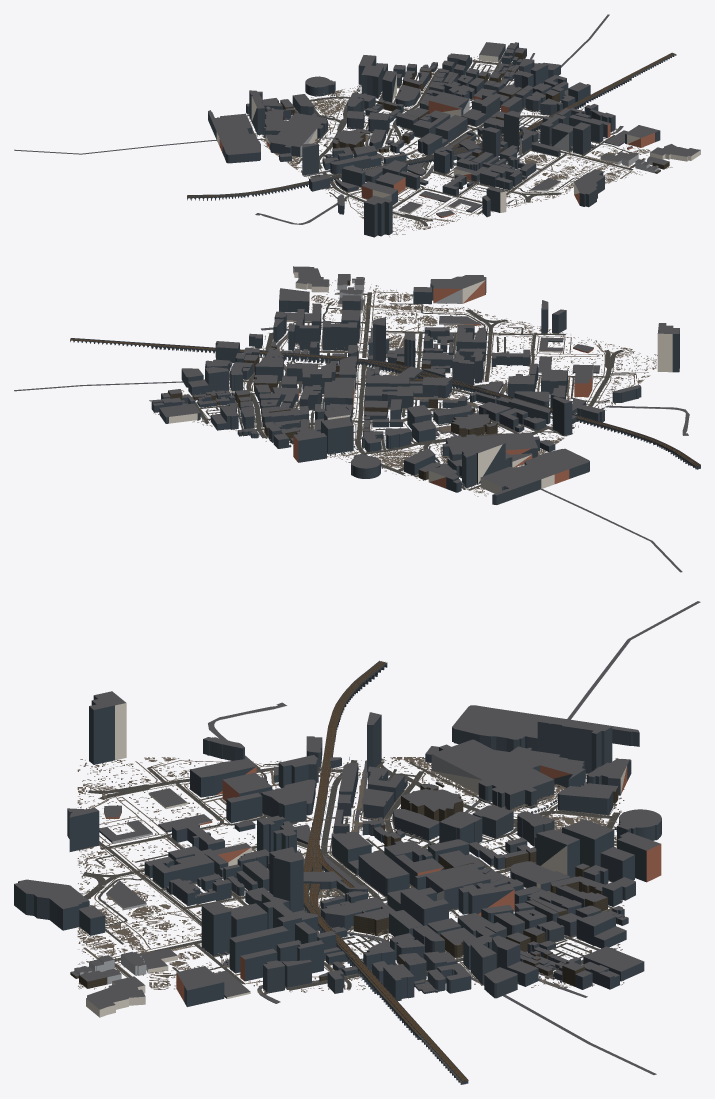
The model's file is context_typed_opt.glb.
3 views of the same model, one above another, from view 1: azimuth 30°, elevation 25°; view 2: azimuth 150°, elevation 25°; view 3: azimuth 270°, elevation 25° (orthographic). The views are drawn at different scales.
Visible parts, largest first — view 1: bldg_23112318, road_27605679, road_783670, bldg_31176345, viaduct_31178960_deck; view 2: bldg_23112318, road_27605679, road_783670, bldg_31176345, viaduct_31178960_deck; view 3: bldg_23112318, road_27605679, road_783670, viaduct_31178960_deck, bldg_31176345.
Boxes of the visible parts, left/top/right/bottom form: bldg_23112318: left=14, top=14, right=700, bottom=237; road_27605679: left=247, top=51, right=672, bottom=236; road_783670: left=247, top=50, right=645, bottom=226; bldg_31176345: left=280, top=49, right=669, bottom=173; viaduct_31178960_deck: left=187, top=53, right=675, bottom=197; bldg_23112318: left=14, top=266, right=700, bottom=572; road_27605679: left=153, top=280, right=657, bottom=496; road_783670: left=186, top=292, right=636, bottom=490; bldg_31176345: left=168, top=276, right=497, bottom=480; viaduct_31178960_deck: left=70, top=338, right=700, bottom=466; bldg_23112318: left=14, top=601, right=700, bottom=1084; road_27605679: left=77, top=757, right=624, bottom=995; road_783670: left=82, top=760, right=620, bottom=990; viaduct_31178960_deck: left=303, top=661, right=468, bottom=1082; bldg_31176345: left=70, top=782, right=624, bottom=988.
Bounding box in the file's own units: 1704 × 97.81 × 1015.
Materials: 9 (4 with a texture image).
